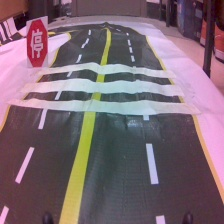stop: (26, 15, 51, 71)
